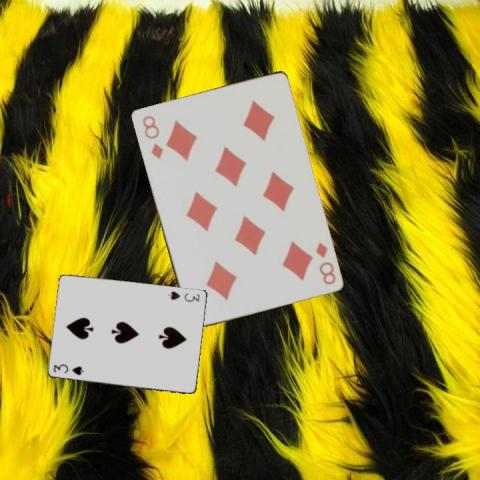3s: (51, 361, 85, 377), (166, 288, 201, 303)
8d: (139, 112, 164, 161), (312, 239, 337, 286)
